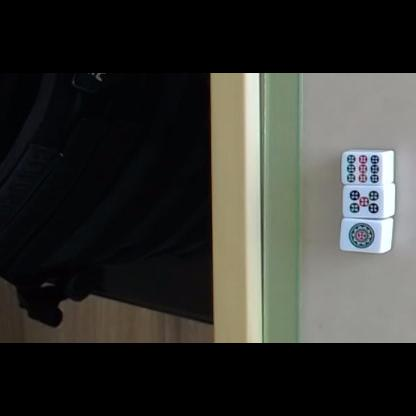1p: (348, 223, 375, 249)
5p: (349, 190, 380, 214)
9p: (346, 154, 379, 184)
